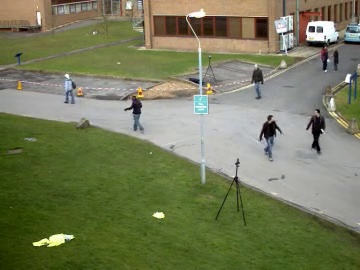person: (306, 109, 325, 154), (306, 108, 325, 152), (63, 75, 76, 104)
